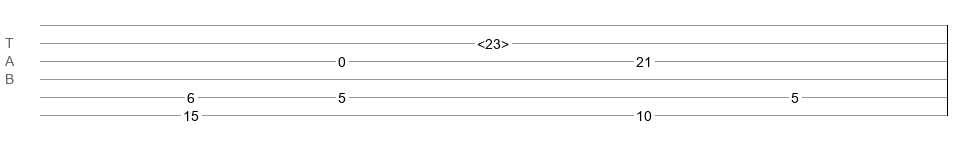0: (338, 54, 346, 64)
10: (636, 108, 652, 118)
15: (183, 108, 199, 118)
21: (636, 54, 652, 64)
5: (338, 90, 346, 100), (791, 90, 799, 100)
6: (187, 90, 195, 100)
harmonic: (477, 36, 509, 46)
